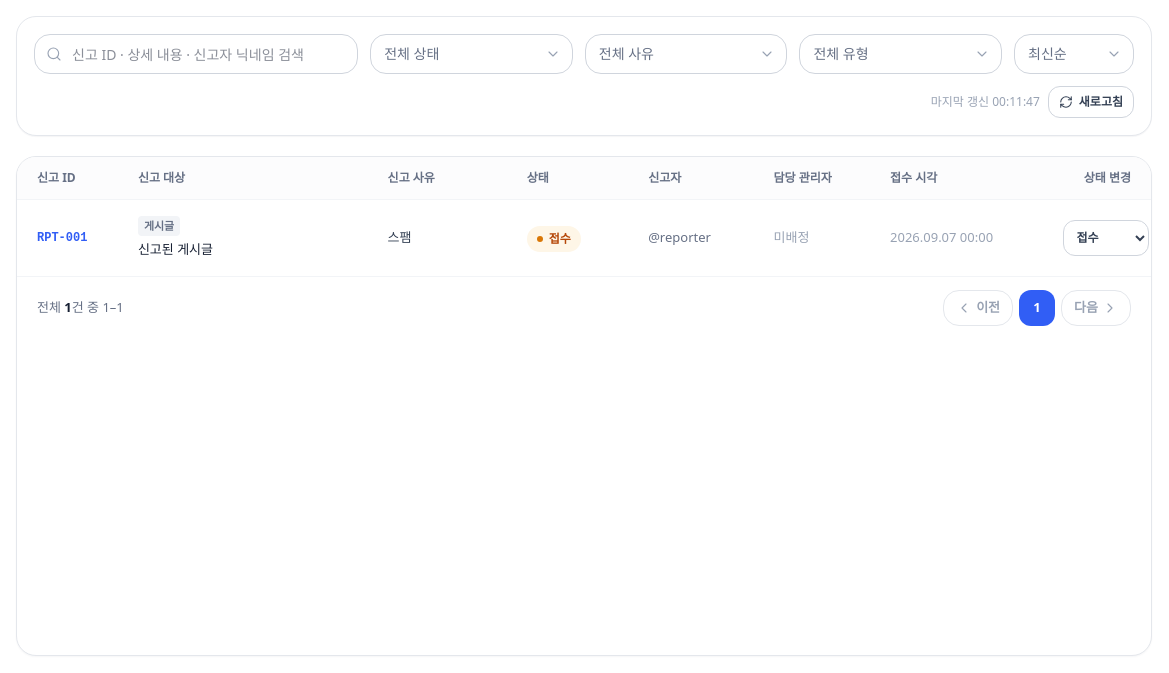
Scenario: AdminReportsManagement › ignores an older GET that resolves after the query changes
The image size is (1169, 673).
Expected: the link "RPT-001" is shown, top-left (37, 231), bottom-right (87, 245)
Click the button "새로고침" at (1091, 102), box top-left (1048, 86), bottom-right (1134, 118)
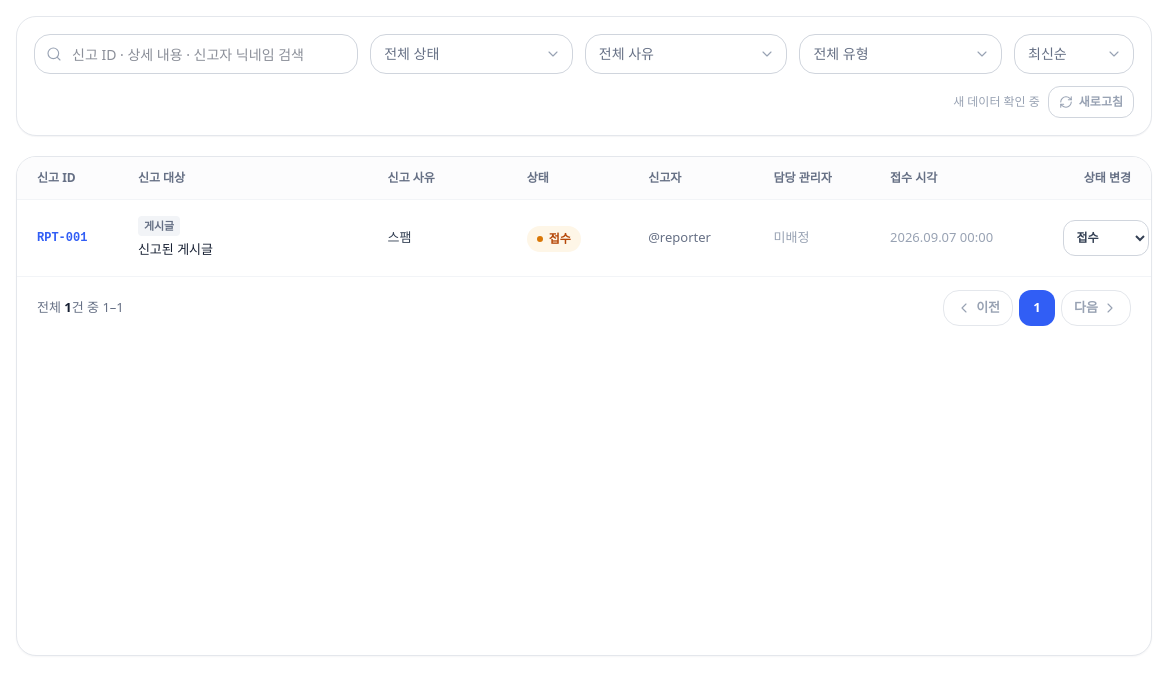
Select "검토 중" in the 1st dropdown named "전체 상태" at (472, 54), box top-left (370, 34), bottom-right (573, 74)
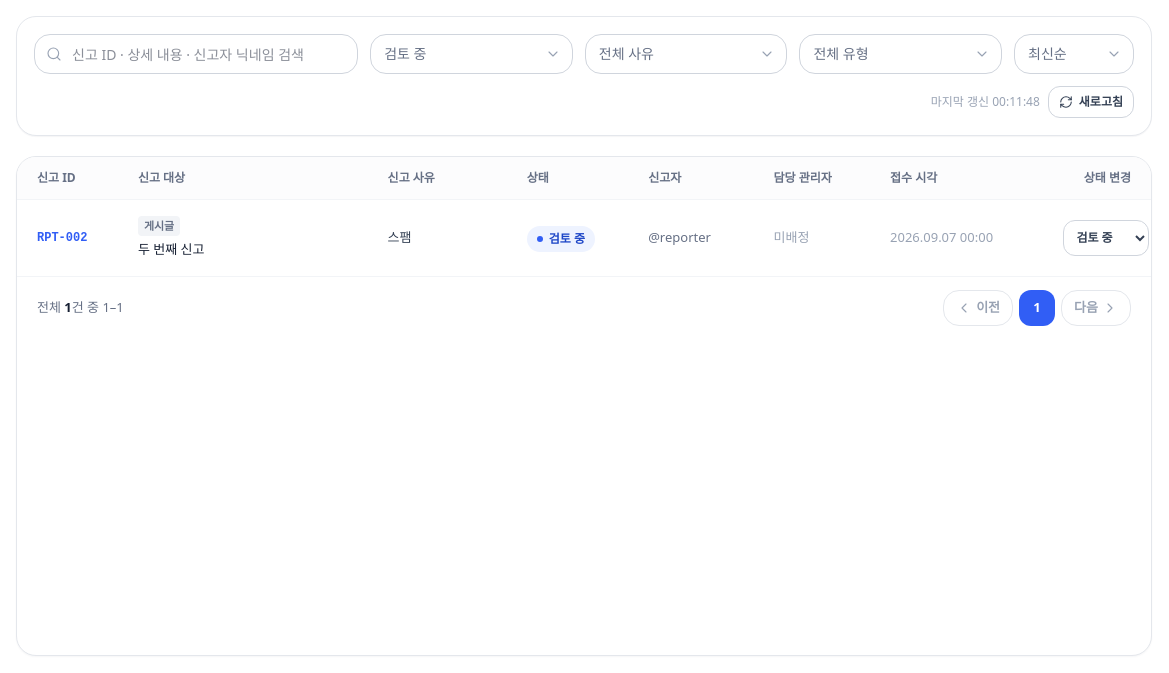
Result: the link "RPT-002" is shown at top-left (37, 231), bottom-right (87, 245)
Result: the link "RPT-001" is gone
